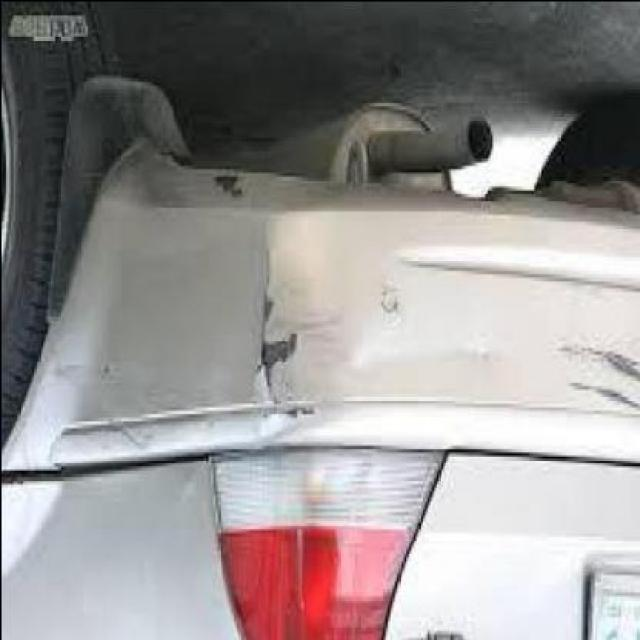damage: (4, 164, 362, 491), (347, 271, 503, 378), (551, 335, 637, 419)
